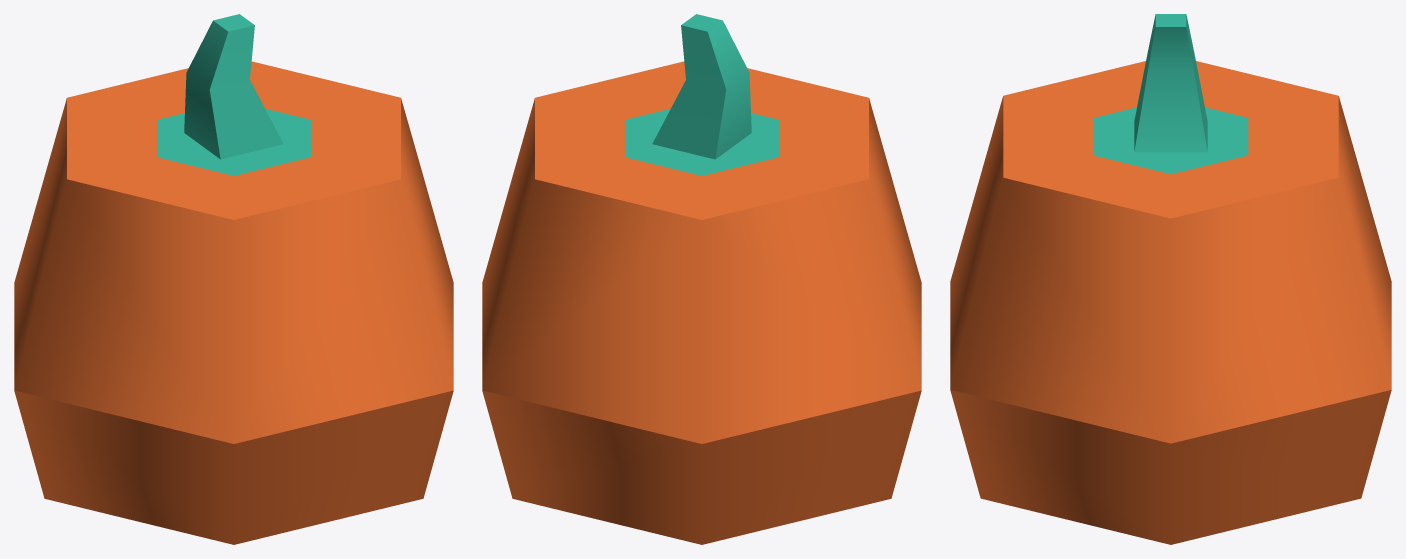
The model's file is pumpkinTall.fbx.
The picture shows the model from 3 angles, left to right: view 1: azimuth 30°, elevation 25°; view 2: azimuth 150°, elevation 25°; view 3: azimuth 270°, elevation 25°; orthographic projection.
Visible parts, largest first — view 1: pumpkinTall; view 2: pumpkinTall; view 3: pumpkinTall.
Part boxes in pixels (x1,y1,x2,y2): pumpkinTall: [14, 14, 453, 544]; pumpkinTall: [482, 14, 921, 544]; pumpkinTall: [950, 14, 1391, 544].
Bounding box in the file's own units: 2.78 × 2.6 × 2.41.
